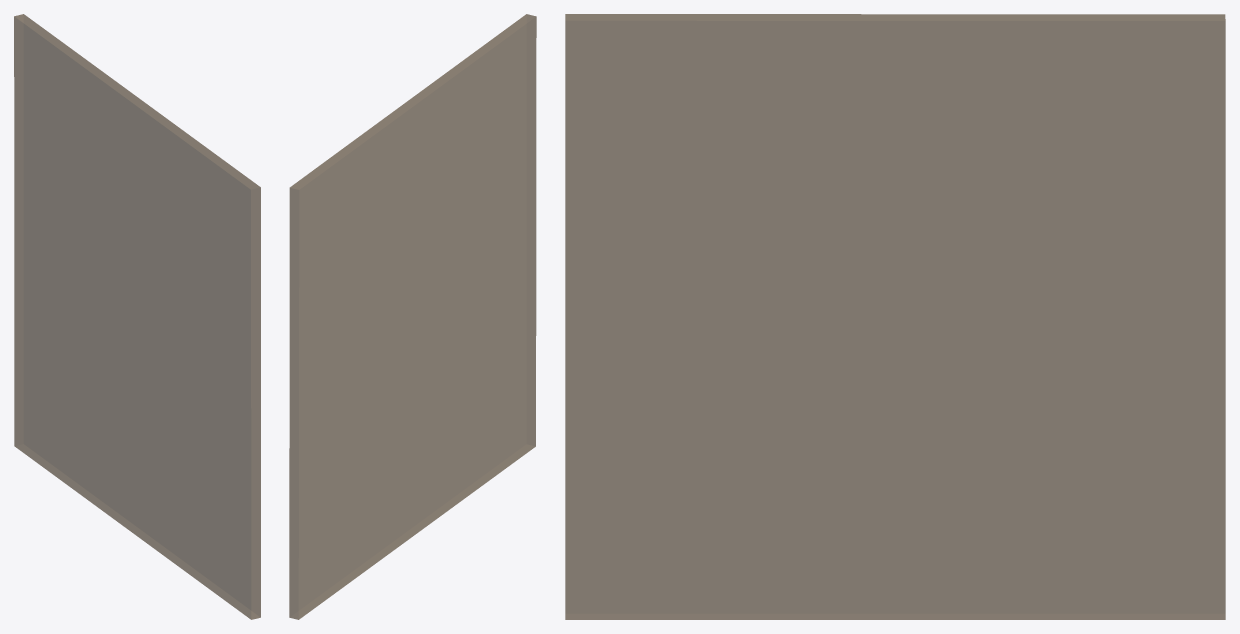
The picture shows the model from 3 angles, left to right: view 1: azimuth 30°, elevation 25°; view 2: azimuth 150°, elevation 25°; view 3: azimuth 270°, elevation 25°; orthographic projection. The views are drawn at different scales.
Parts seen in each view (by area): view 1: Object_24; view 2: Object_24; view 3: Object_24.
Part boxes in pixels (x1,y1,x2,y2): Object_24: (14, 14, 260, 619); Object_24: (289, 14, 536, 619); Object_24: (565, 14, 1225, 619).
Size of the model in its own units: 0.0146 by 0.6028 by 0.6021.
